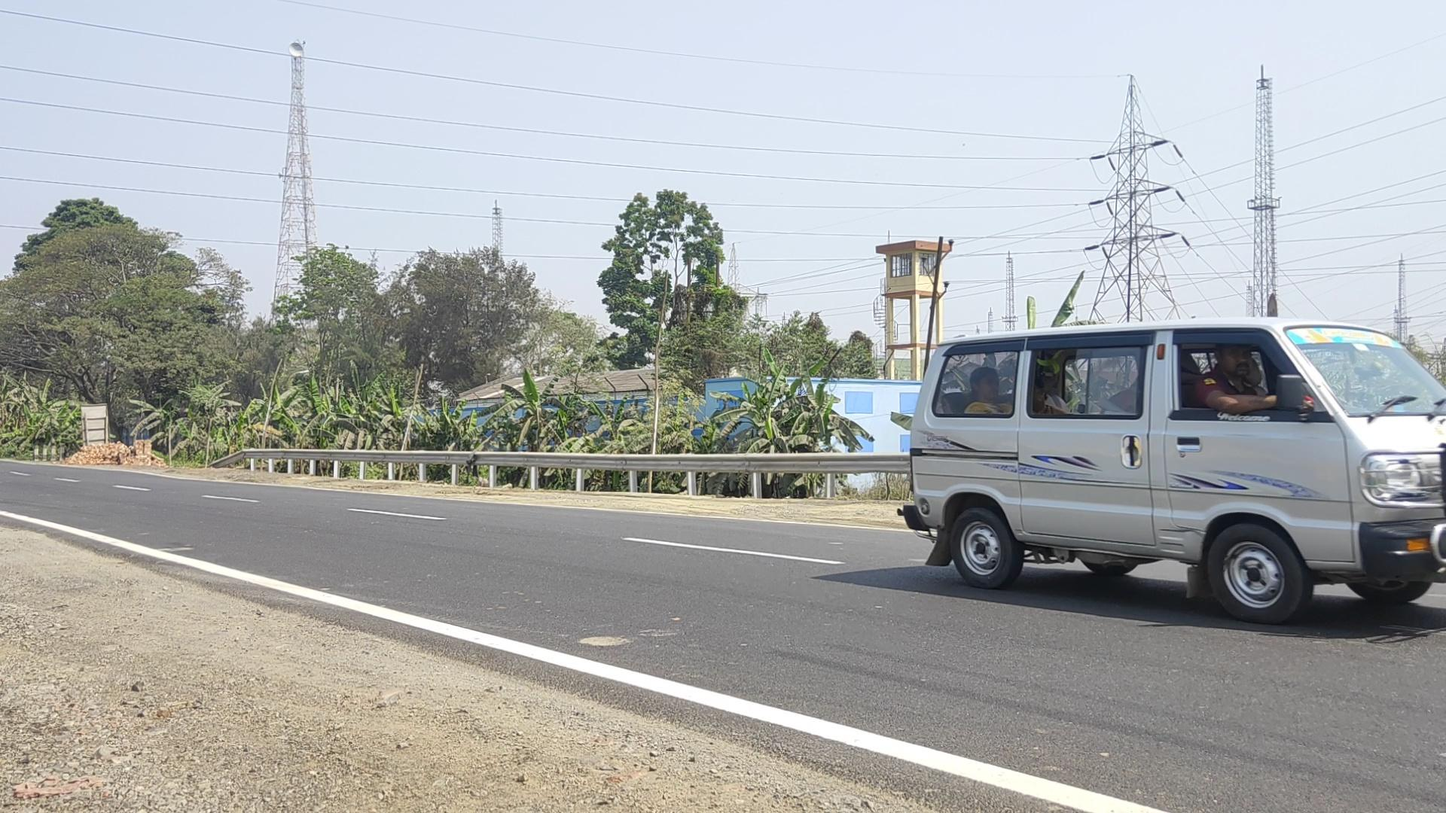van: (896, 318, 1446, 626)
